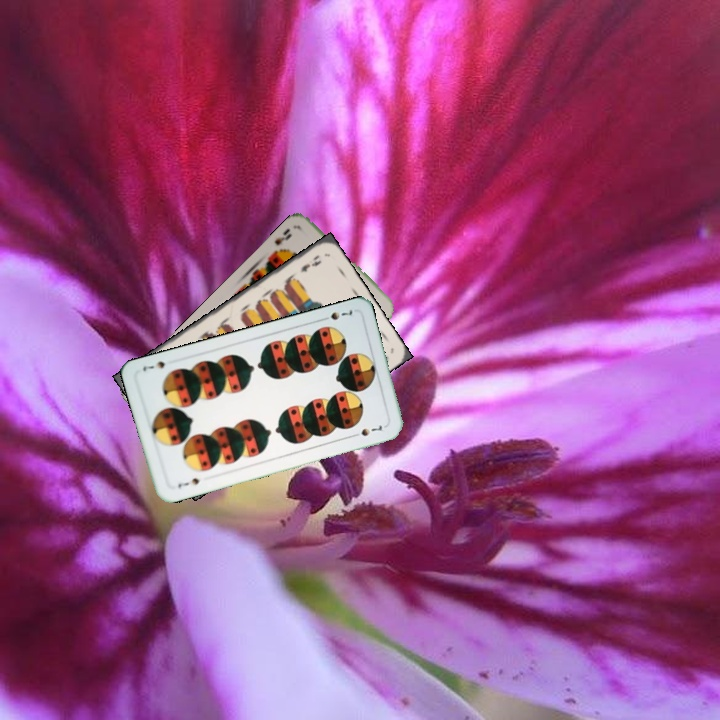E9: (296, 251, 324, 275)
S7: (317, 305, 355, 324), (174, 474, 205, 490)
S9: (268, 224, 294, 258)
